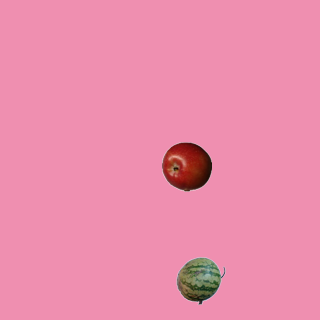Apple Braeburn: (161, 141, 211, 191)
Watermelon: (175, 255, 225, 305)
